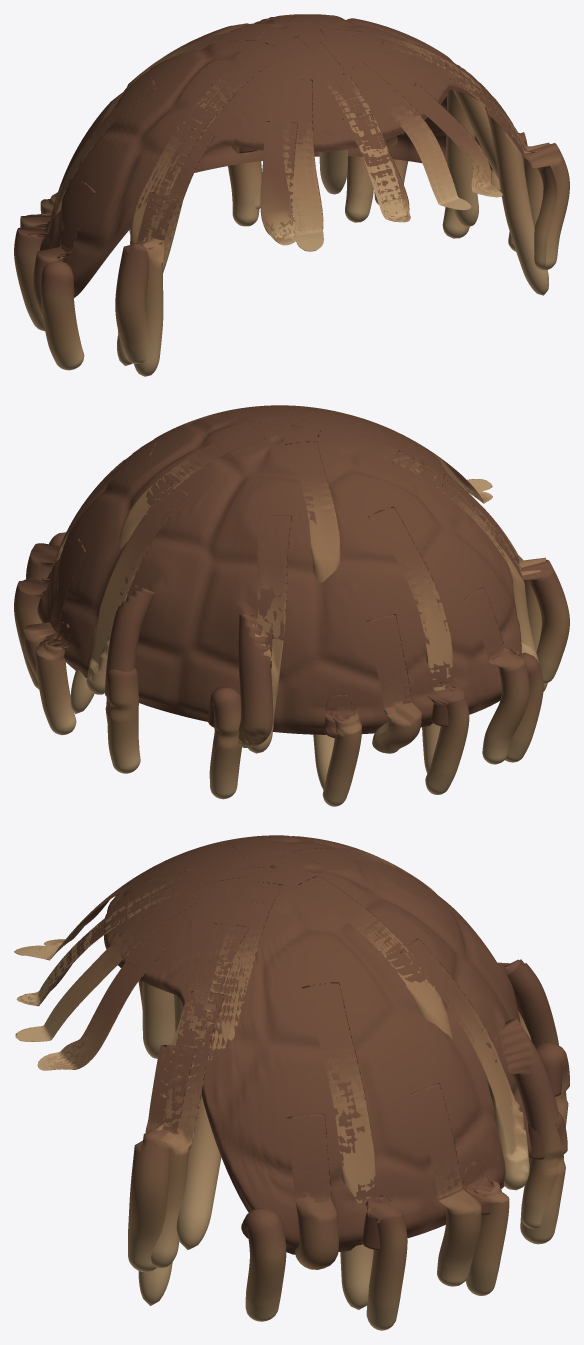
Rendered from Ombre-66e3ad10b2f8253-hair.glb.
3 renders of one model, top to bottom at view 1: azimuth 30°, elevation 25°; view 2: azimuth 150°, elevation 25°; view 3: azimuth 270°, elevation 25°, orthographic. The views are drawn at different scales.
Parts seen in each view (by area): view 1: 226 hair / Hair252 / sectioned locs.001; view 2: 226 hair / Hair252 / sectioned locs.001; view 3: 226 hair / Hair252 / sectioned locs.001.
Part boxes in pixels (bbox=[...]): 226 hair / Hair252 / sectioned locs.001: bbox=[14, 14, 569, 376]; 226 hair / Hair252 / sectioned locs.001: bbox=[14, 405, 569, 806]; 226 hair / Hair252 / sectioned locs.001: bbox=[14, 835, 569, 1330].
Size of the model in its own units: 1.1 by 0.5946 by 0.8762.
Materials: 1 (1 with a texture image).
